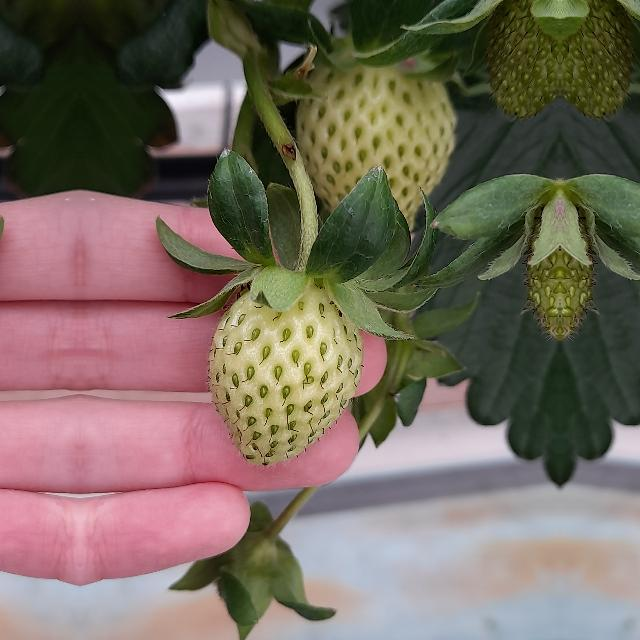Health_25: (209, 278, 363, 464)
